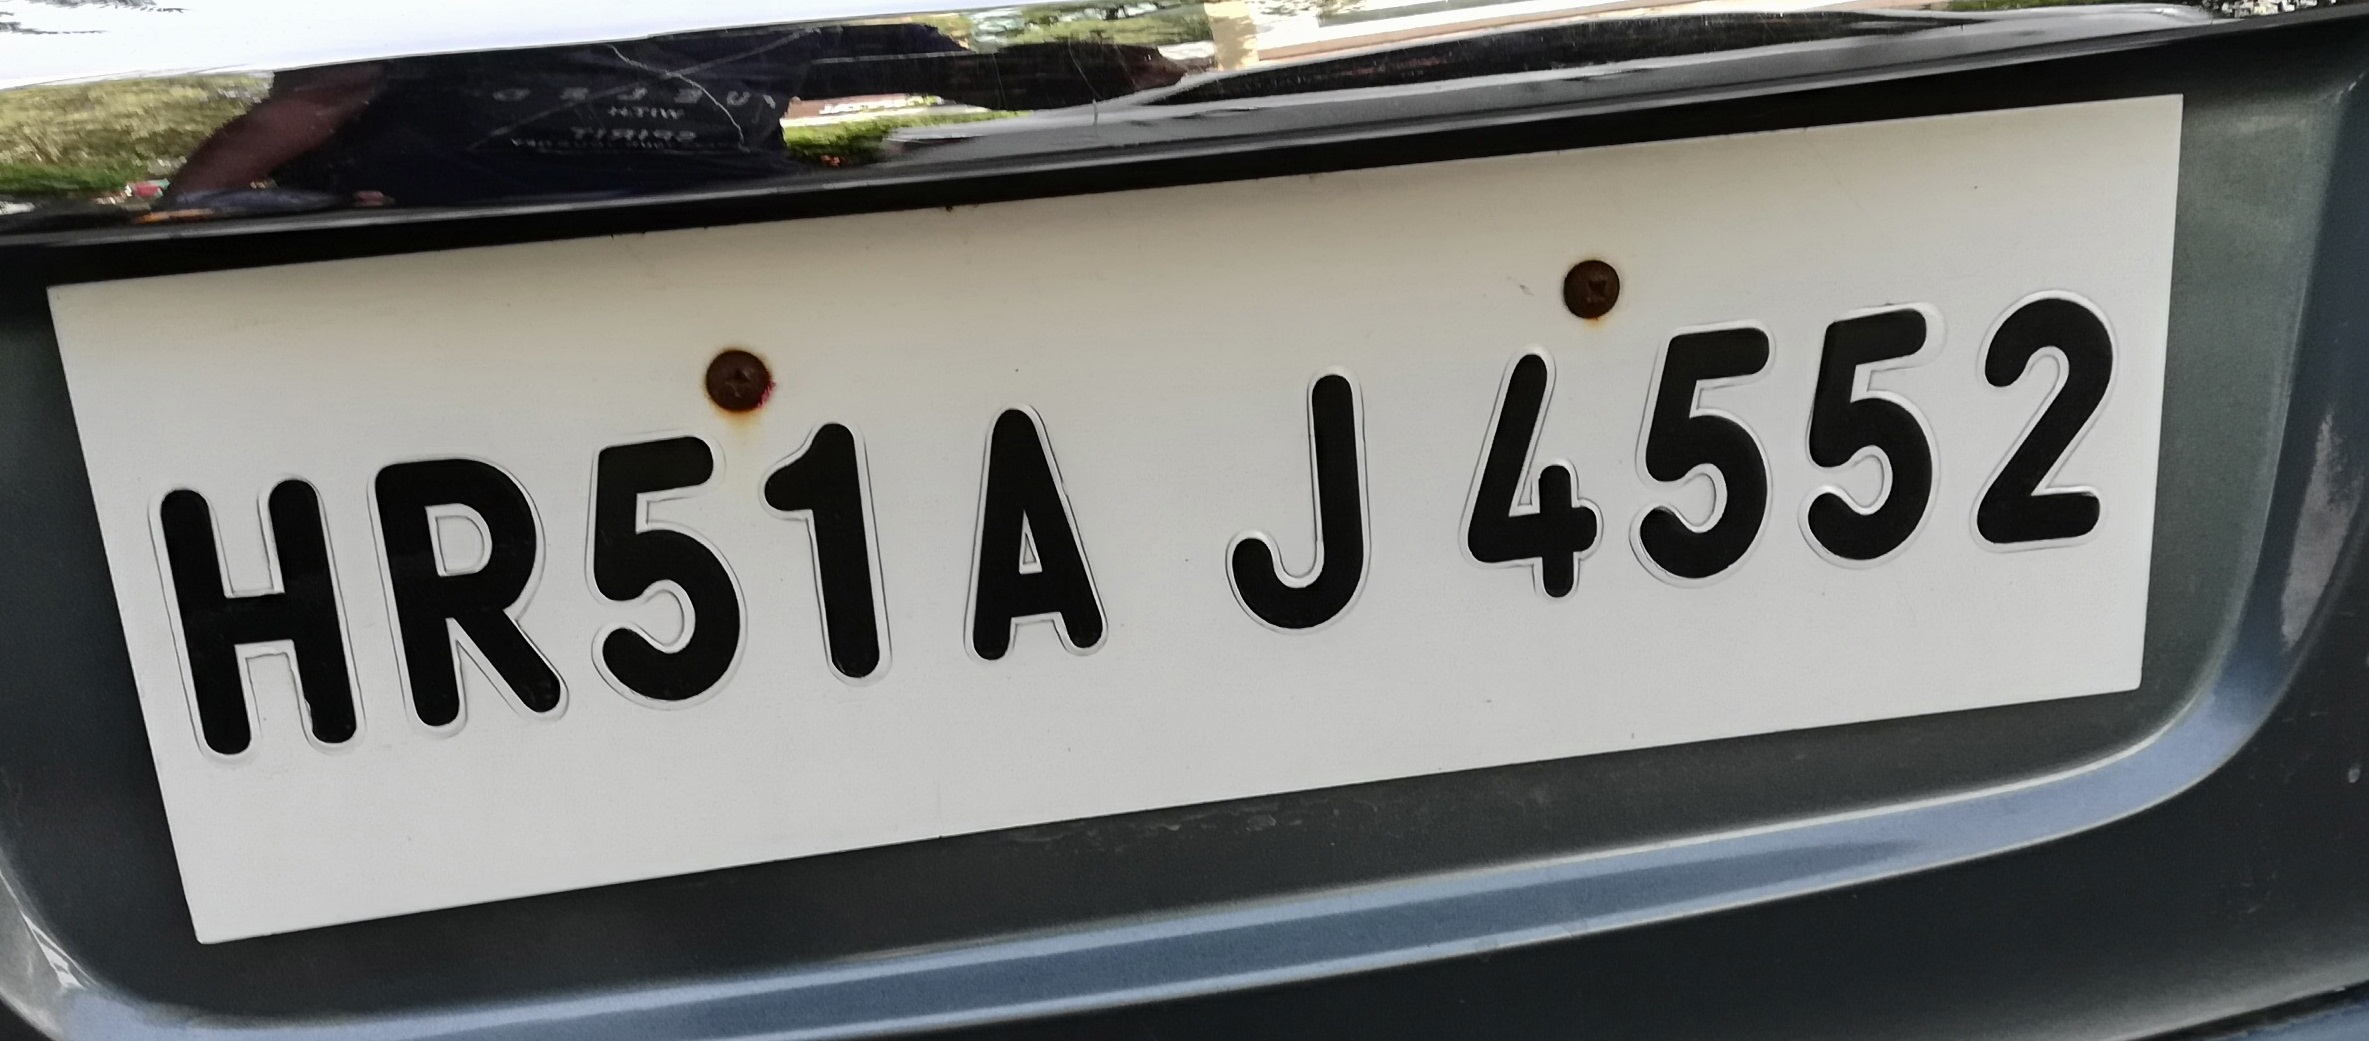numberplate: (34, 90, 2224, 950)
